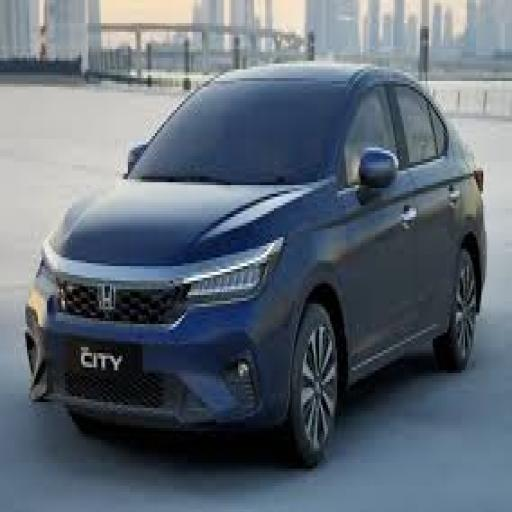License: (62, 332, 150, 393)
